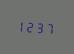one: (18, 18, 26, 33)
seven: (45, 20, 53, 35)
three: (36, 19, 44, 34)
two: (27, 19, 35, 33)
